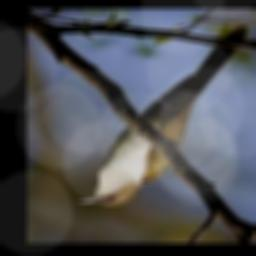Cuckoo: (76, 27, 248, 206)
